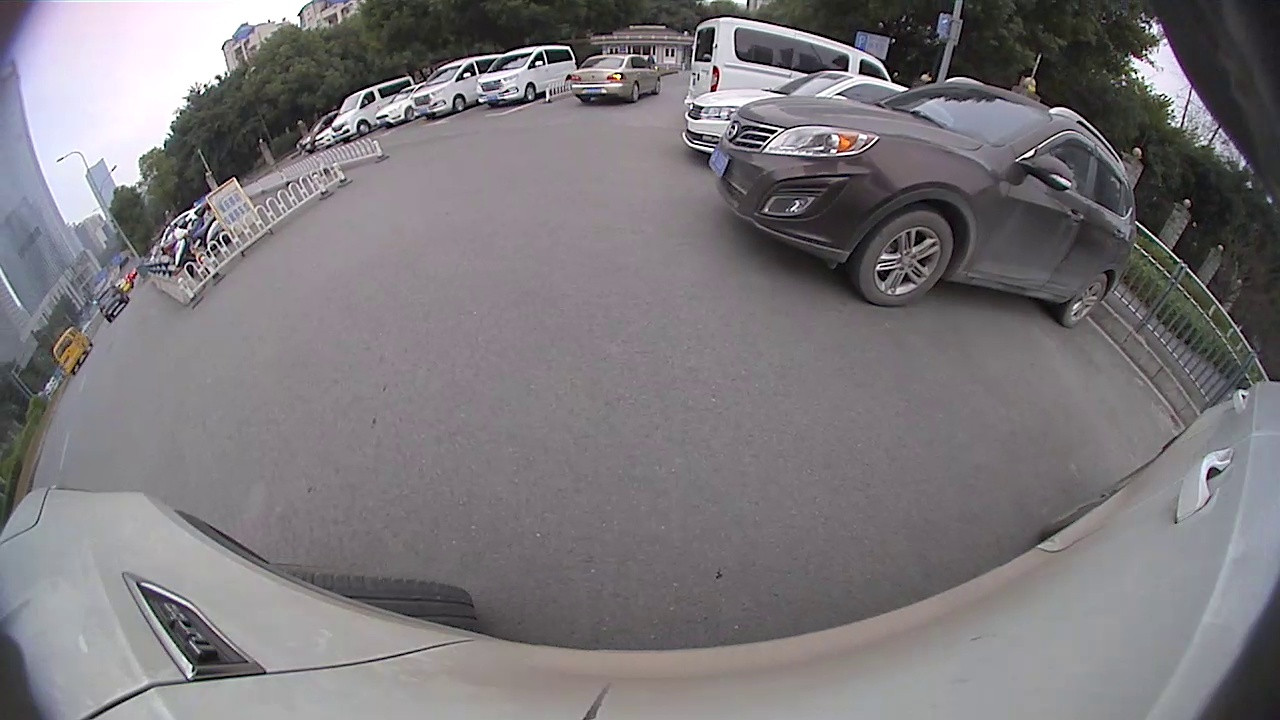car: (709, 76, 1136, 328), (681, 68, 911, 165), (691, 14, 895, 90), (477, 43, 579, 109), (411, 53, 508, 120), (331, 76, 416, 142), (568, 51, 664, 107), (378, 87, 427, 128)
front: (856, 210, 956, 308), (452, 96, 468, 113), (524, 84, 538, 102), (357, 120, 371, 136), (404, 106, 416, 120)
rear: (1059, 272, 1109, 330), (632, 83, 640, 101)
